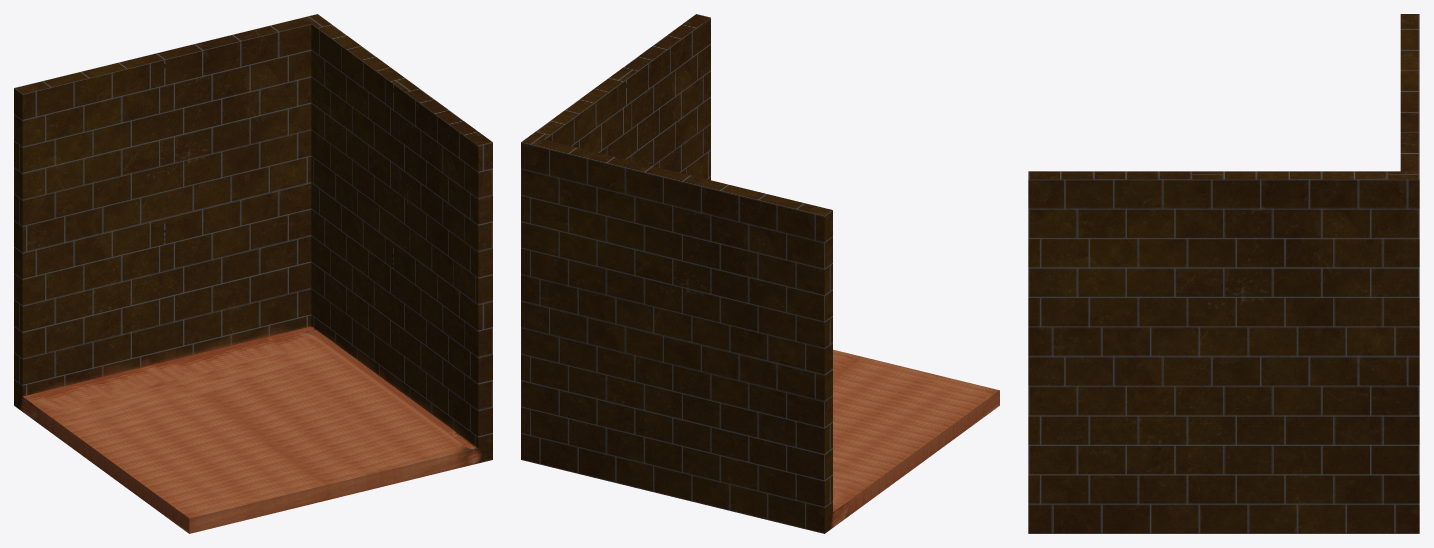
File: isometric_bricks.glb
3 views of the same model, side by side, from view 1: azimuth 30°, elevation 25°; view 2: azimuth 150°, elevation 25°; view 3: azimuth 270°, elevation 25° (orthographic). The views are drawn at different scales.
Parts seen in each view (by area): view 1: Object_2; view 2: Object_2; view 3: Object_2.
Part boxes in pixels (x1,y1,x2,y2): Object_2: [14, 14, 492, 533]; Object_2: [521, 14, 999, 533]; Object_2: [1028, 14, 1419, 533].
Size of the model in its own units: 24.77 by 24.77 by 24.77.
1 material, 1 textured.
